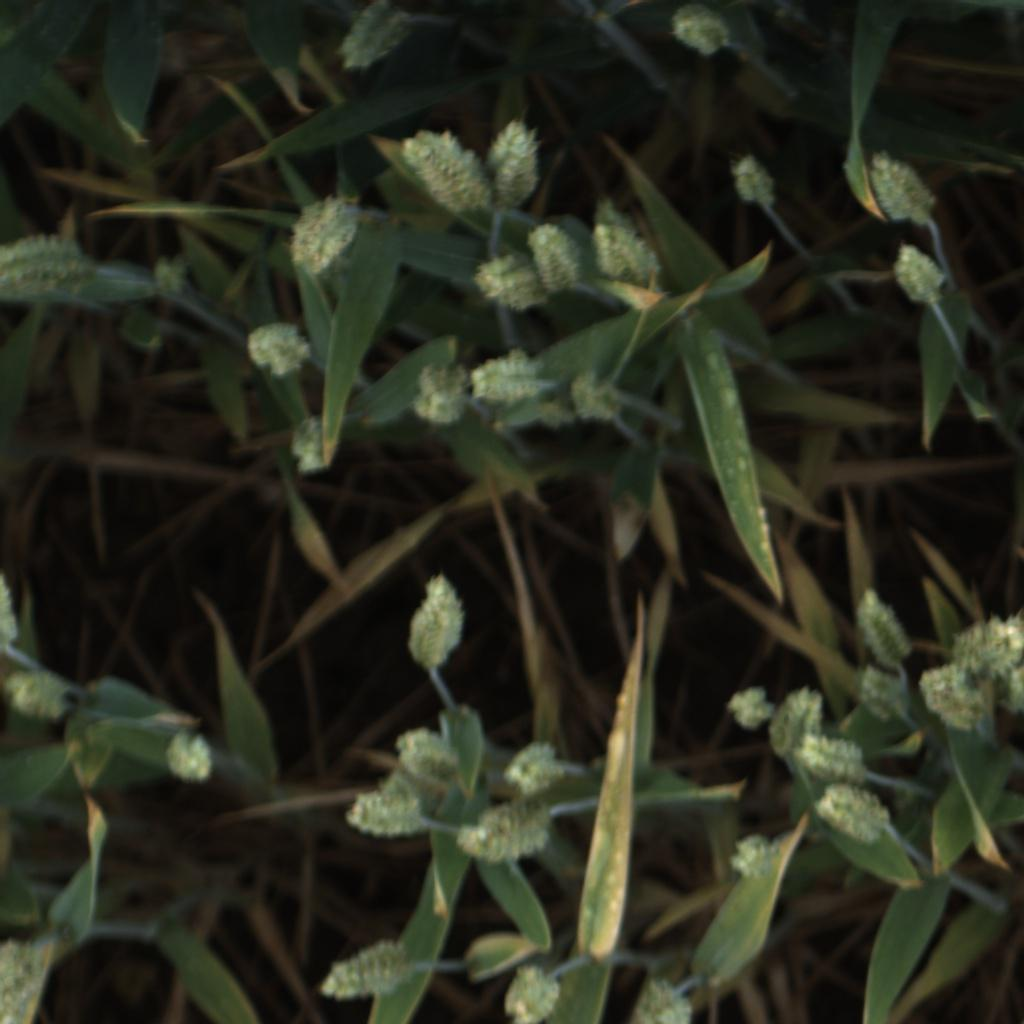0-0: (399, 124, 490, 216), (395, 572, 471, 672), (454, 801, 562, 867), (841, 582, 920, 670), (331, 3, 423, 76), (284, 195, 360, 280), (0, 231, 92, 298), (811, 781, 899, 851), (489, 112, 548, 210), (317, 939, 410, 1001), (948, 604, 1023, 677), (865, 148, 936, 225), (916, 663, 989, 737), (760, 683, 829, 760), (587, 214, 661, 284), (801, 720, 878, 786), (526, 218, 587, 297), (472, 344, 547, 407), (390, 718, 460, 785), (472, 250, 544, 315), (0, 933, 51, 1024), (342, 789, 431, 841), (405, 360, 473, 428), (243, 313, 312, 379), (663, 4, 737, 63), (496, 963, 564, 1024), (501, 736, 567, 797), (566, 369, 636, 426), (6, 667, 75, 724), (886, 243, 948, 306), (280, 411, 339, 475), (720, 679, 784, 737), (633, 974, 703, 1024), (854, 664, 912, 724), (724, 151, 780, 212), (161, 728, 215, 786), (726, 831, 782, 884), (149, 254, 191, 301), (374, 770, 424, 809), (0, 570, 23, 649), (1000, 664, 1024, 715)
